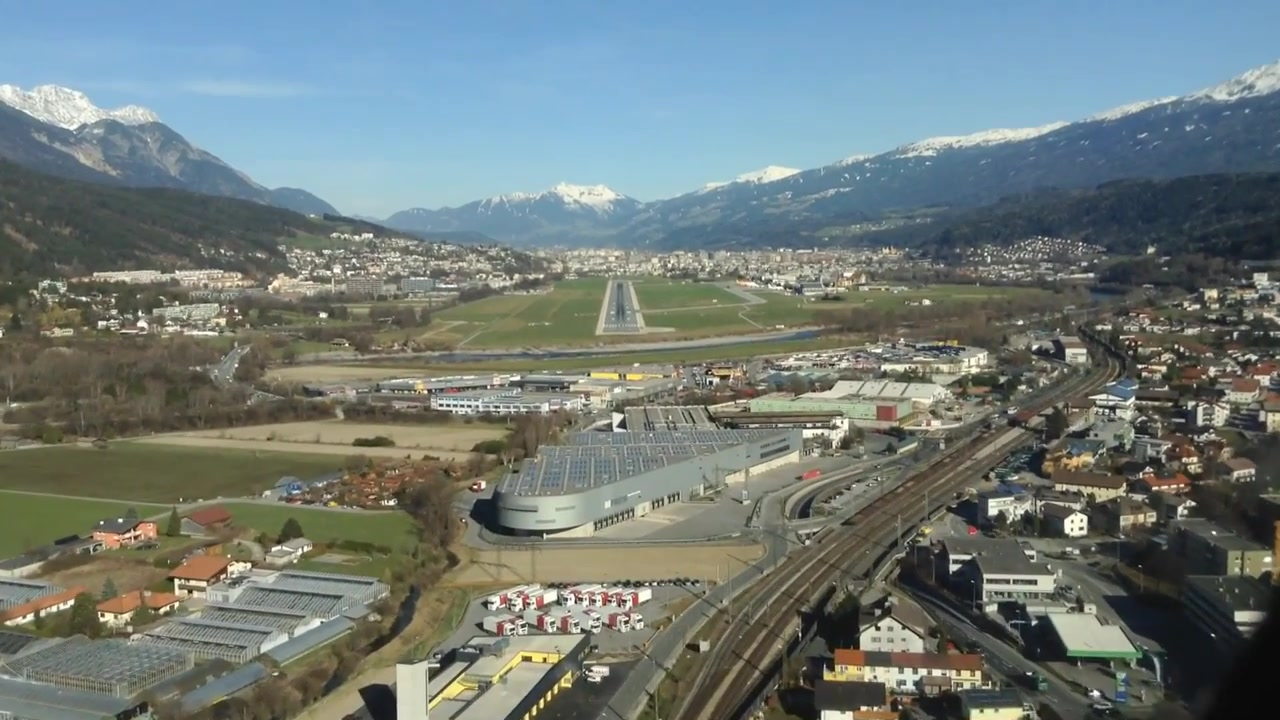entrance: (601, 322, 640, 328)
runway: (600, 280, 643, 335)
